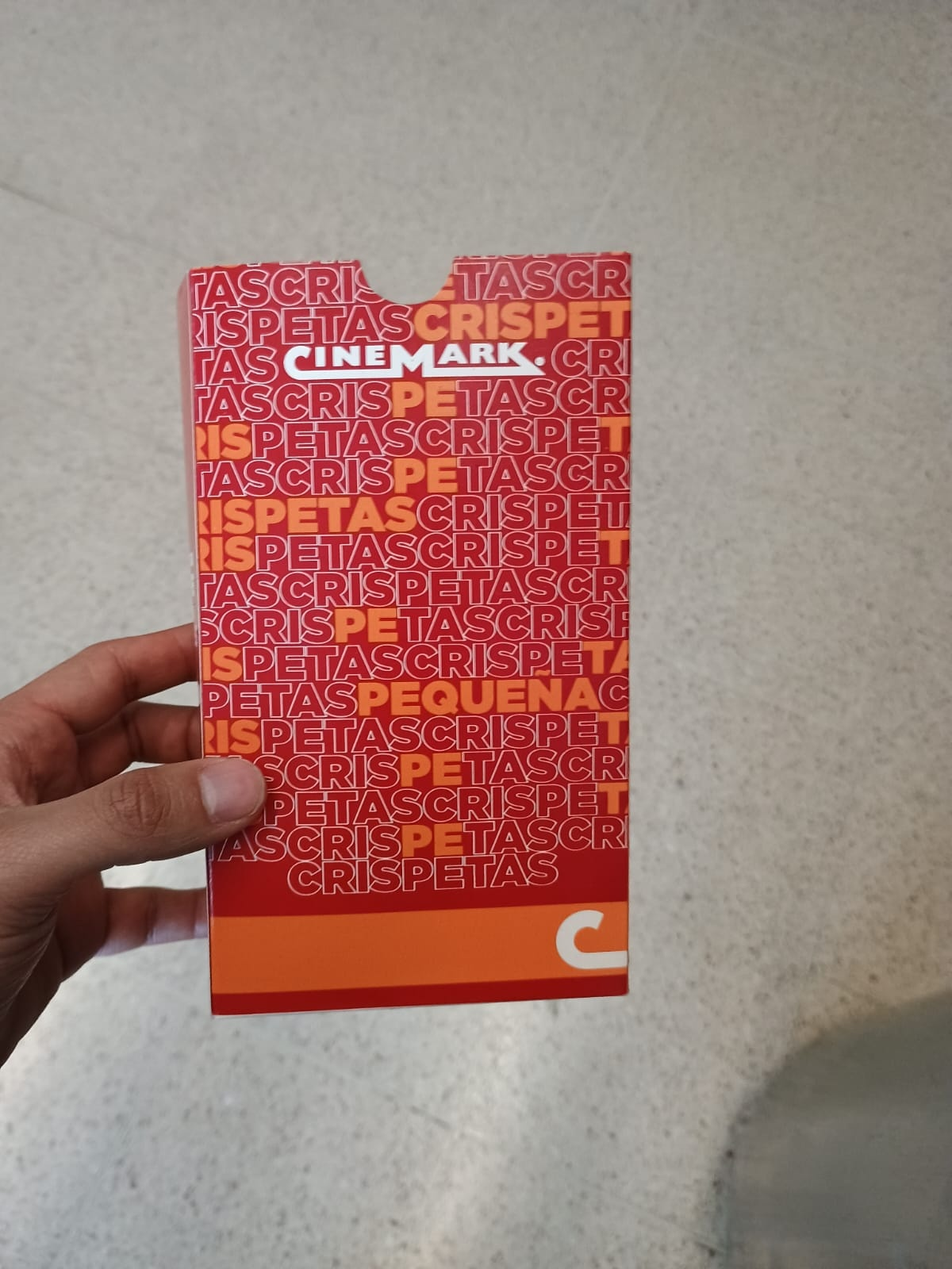Carton: (175, 257, 634, 1018)
